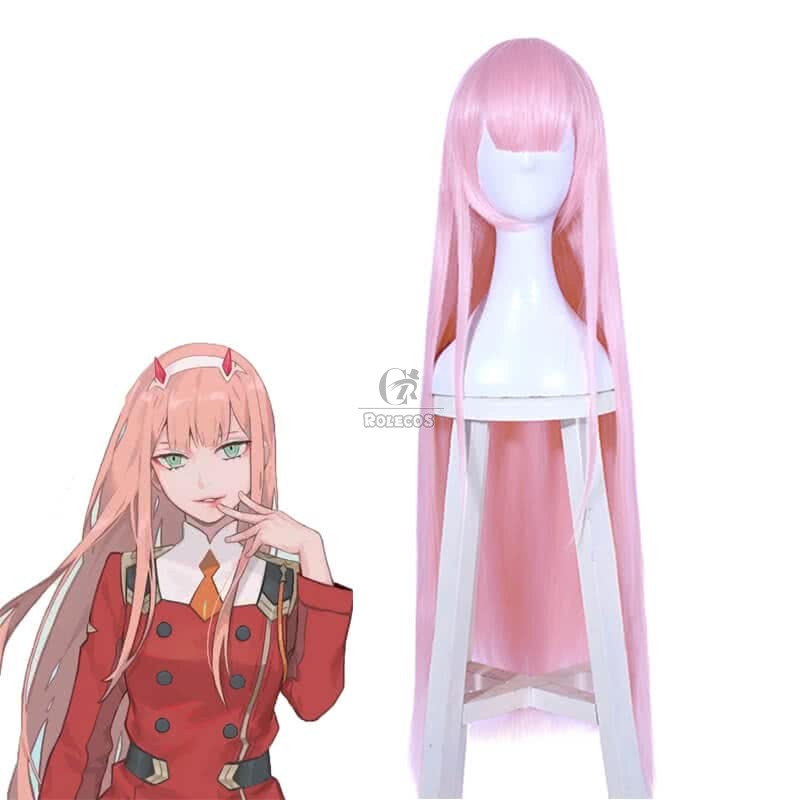zeroTwo: (118, 339, 292, 526)
